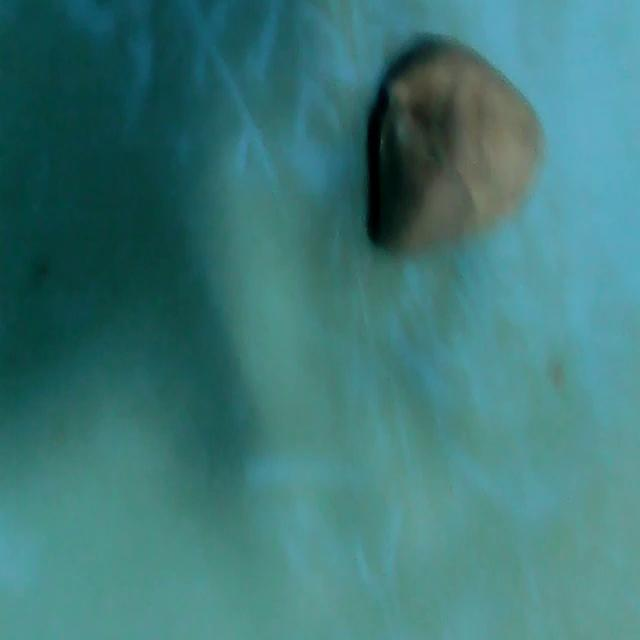rock: (365, 42, 548, 258)
